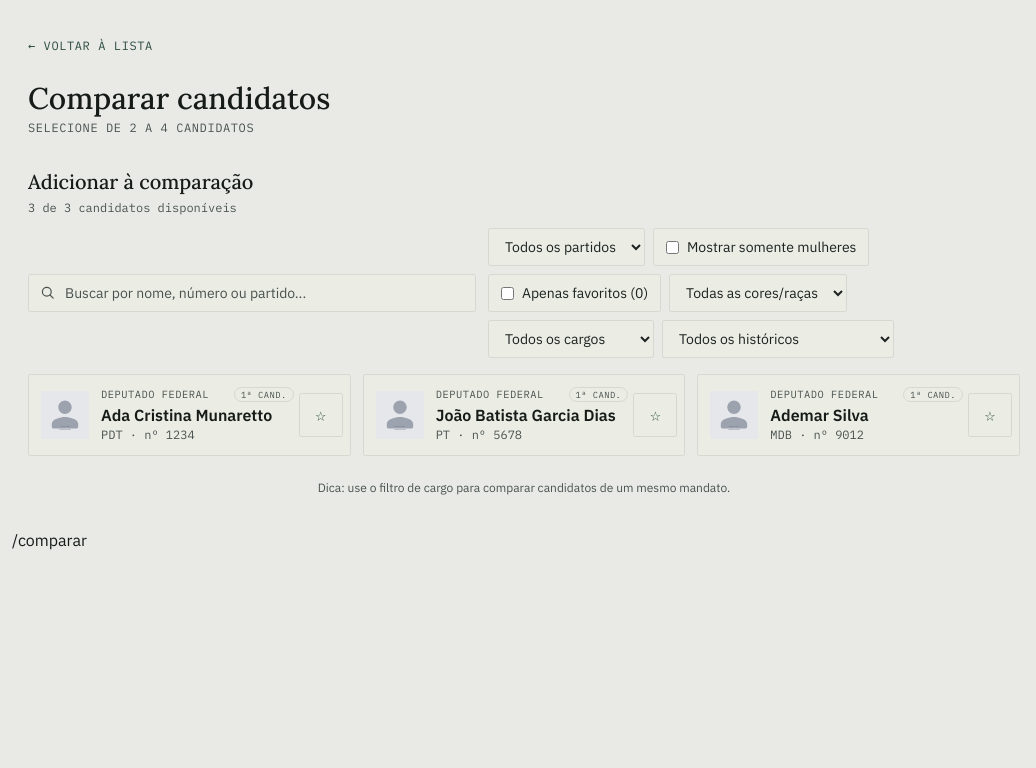
Test: ComparePage H5.3 › permite buscar candidatos por nome, número de urna ou partido e limpar a busca
# Busca por nome parcial
In the search field named "buscar candidatos": (252, 293) [28, 274, 476, 312], type "Ada"
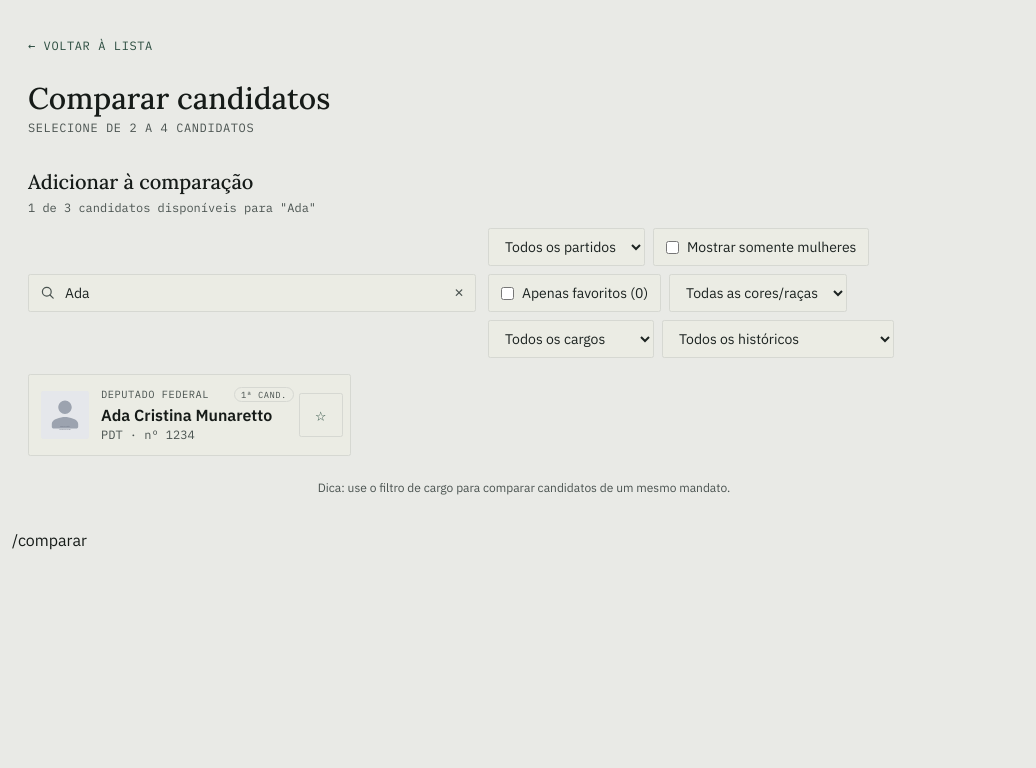
Check: the text "Ada Cristina Munaretto" is shown, box [101, 403, 294, 427]
Check: the button "João Batista Garcia Dias" is gone
Check: the button "Ademar Silva" is gone
# Busca por número de urna
Replace the text in the search field named "buscar candidatos" with "5678": (252, 293) [28, 274, 476, 312]
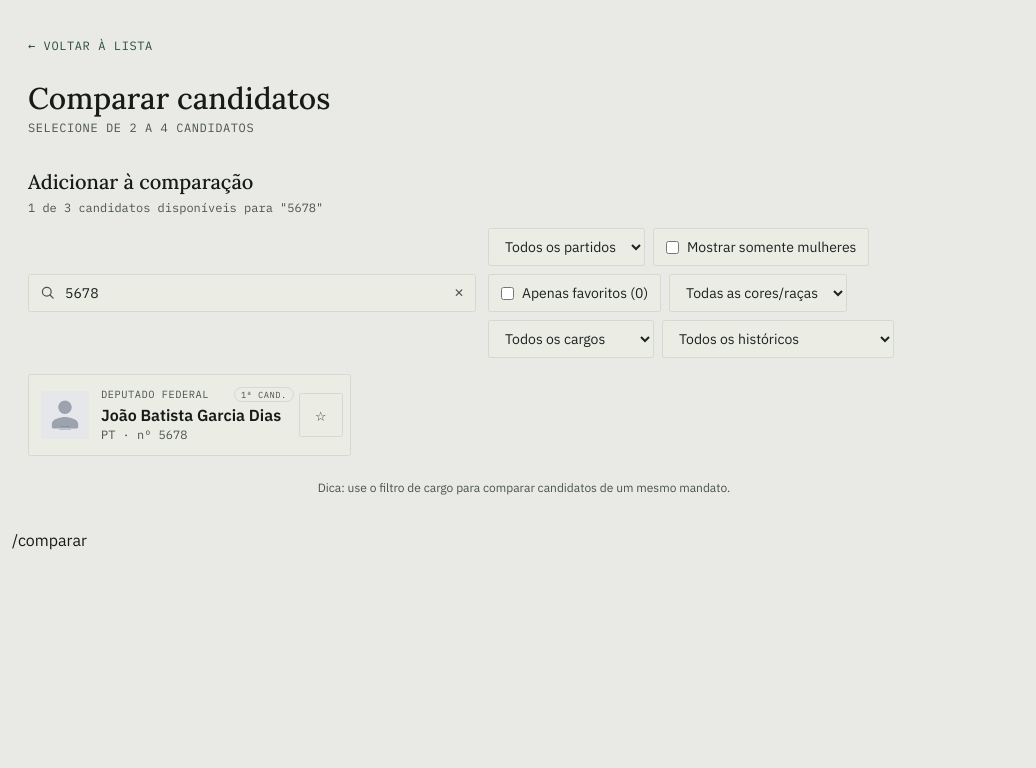
Check: the text "João Batista Garcia Dias" is shown, box [101, 403, 294, 427]
Check: the button "Ada Cristina Munaretto" is gone
# Busca por partido
Replace the text in the search field named "buscar candidatos" with "MDB": (252, 293) [28, 274, 476, 312]
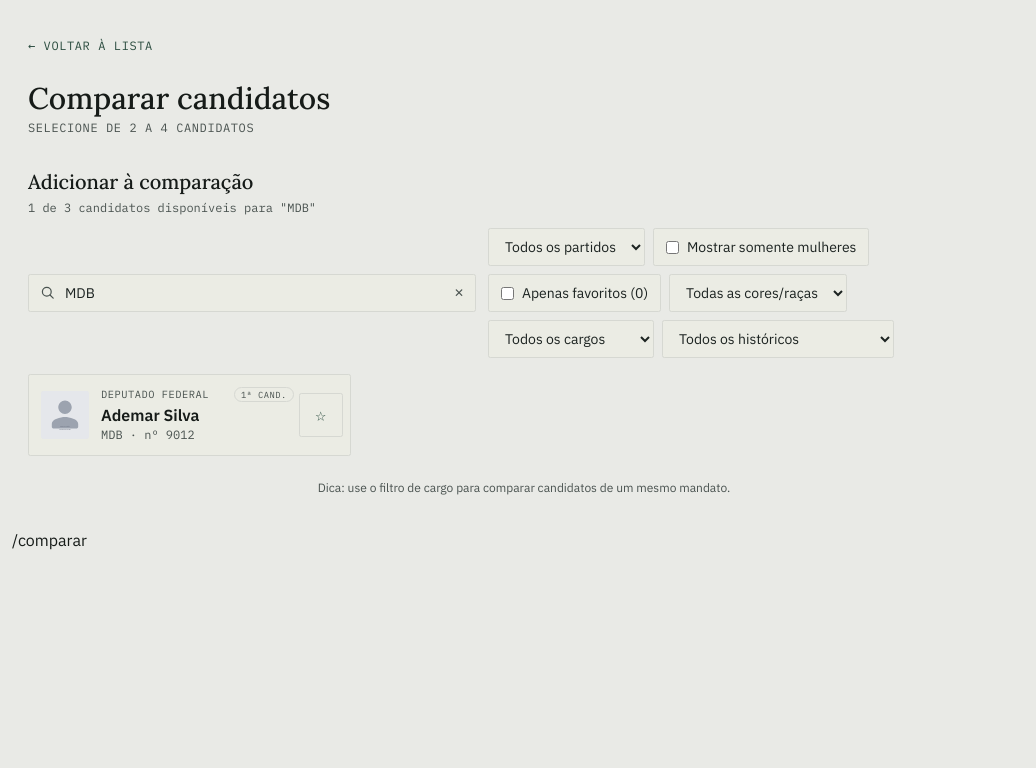
Check: the button "Ada Cristina Munaretto" is not shown
Check: the text "Ademar Silva" is shown, box [101, 405, 200, 425]
# Limpar campo de busca via botão de limpar
Click the button named "limpar campo de pesquisa": click(459, 293) [450, 281, 468, 305]
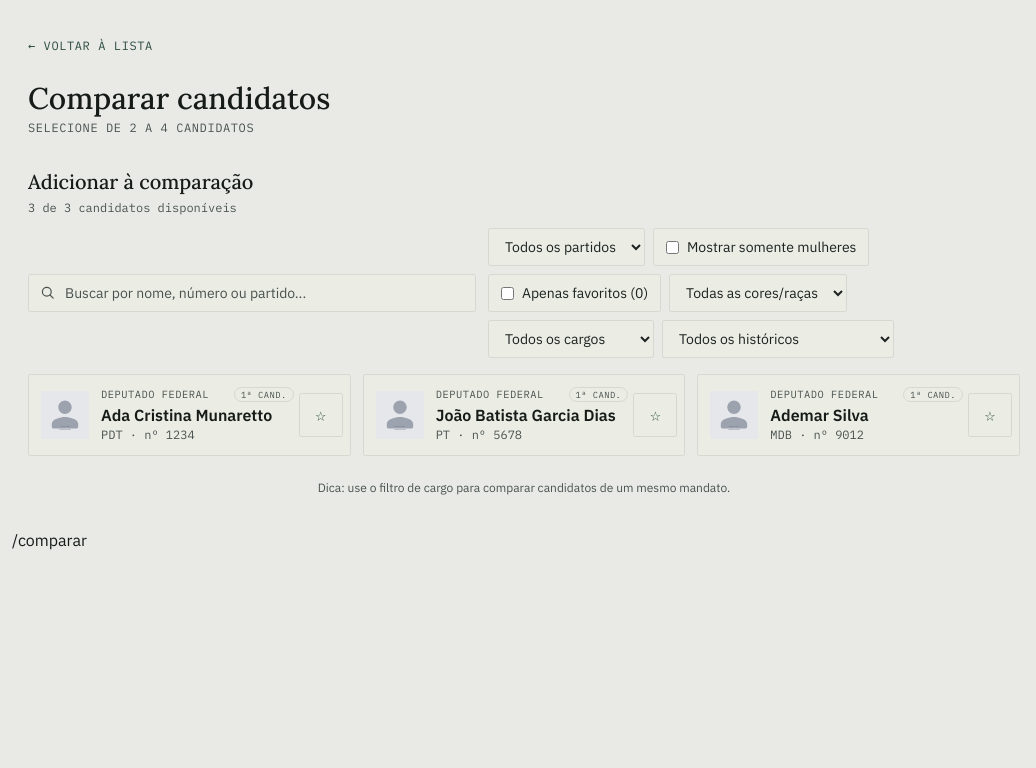
Check: the search field named "buscar candidatos" is empty
Check: the text "Ada Cristina Munaretto" is shown, box [101, 403, 294, 427]
Check: the text "João Batista Garcia Dias" is shown, box [436, 403, 628, 427]
# Busca sem correspondência exibe estado vazio
In the search field named "buscar candidatos": (252, 293) [28, 274, 476, 312], type "Nome Inexistente XYZ"
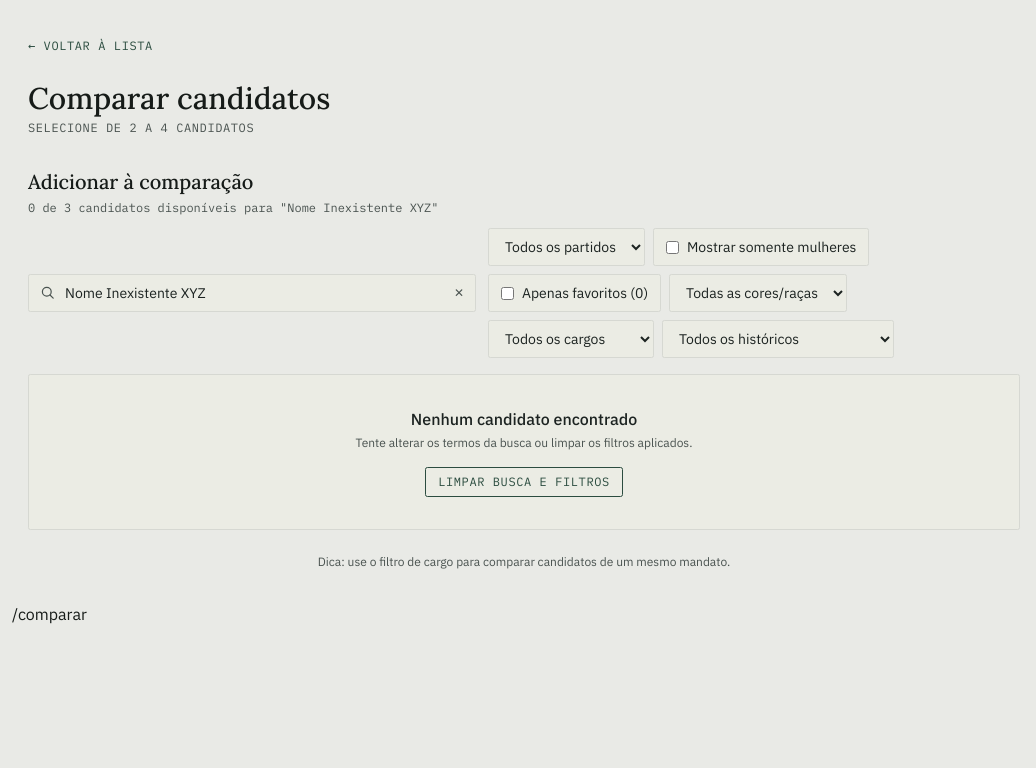
Check: the text "Nenhum candidato encontrado" is shown, box [411, 409, 637, 429]
Click the button "Limpar busca e filtros": click(524, 482) [425, 467, 623, 497]
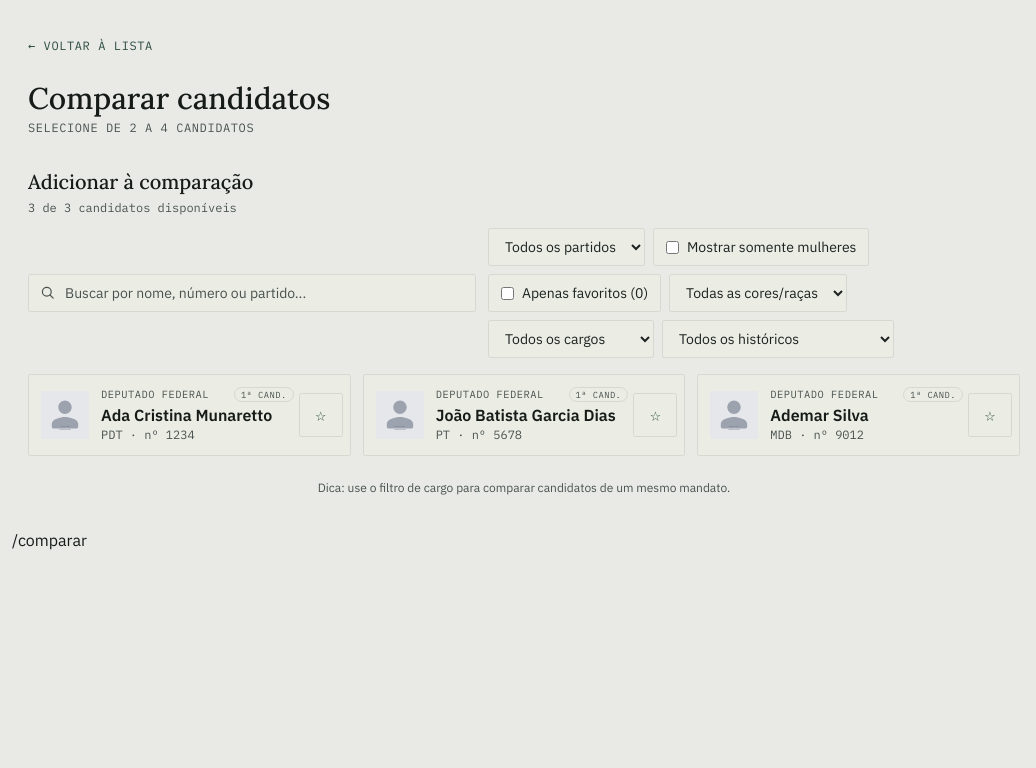
Check: the search field named "buscar candidatos" is empty, box [28, 274, 476, 312]
Check: the text "Ada Cristina Munaretto" is shown, box [101, 403, 294, 427]
